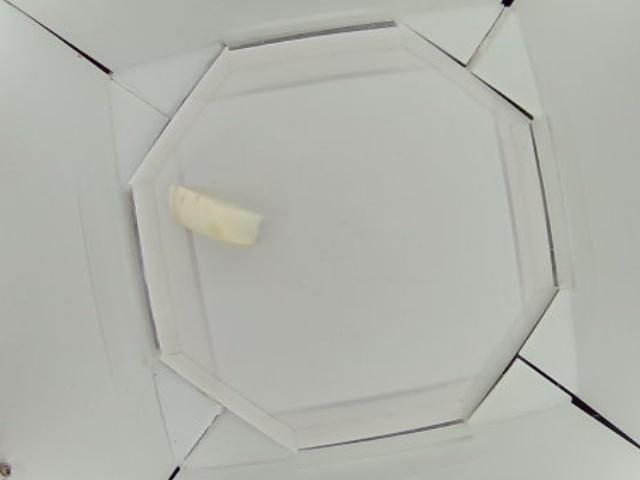Mooli: (168, 181, 262, 248)
